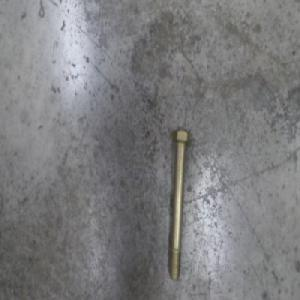Bolt: (167, 127, 191, 281)
